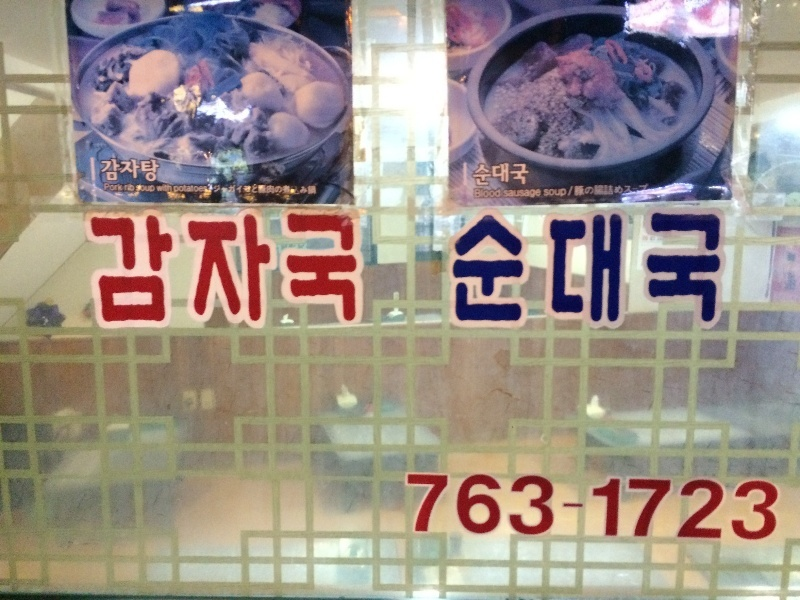text: (81, 203, 96, 336), (97, 203, 112, 336), (113, 203, 128, 336), (129, 203, 144, 336), (145, 203, 160, 336), (161, 203, 176, 336), (177, 203, 192, 336), (193, 203, 208, 336), (209, 203, 224, 336), (225, 203, 240, 336), (241, 203, 256, 336), (257, 203, 272, 336), (273, 203, 288, 336), (289, 203, 304, 336), (305, 203, 320, 336), (321, 203, 336, 336), (337, 203, 352, 336), (353, 203, 368, 336), (449, 207, 464, 339), (465, 207, 480, 339), (481, 207, 496, 339), (497, 207, 512, 339), (513, 207, 528, 339), (529, 207, 544, 339), (545, 207, 560, 339), (561, 207, 576, 339), (577, 207, 592, 339), (593, 207, 608, 339), (609, 207, 624, 339), (625, 207, 640, 339), (641, 207, 656, 339), (657, 207, 672, 339), (673, 207, 688, 339), (689, 207, 704, 339), (705, 207, 720, 339), (593, 470, 608, 554), (609, 470, 624, 554), (625, 470, 640, 554), (641, 470, 656, 554), (657, 470, 672, 554), (673, 470, 688, 554), (689, 470, 704, 554), (705, 470, 720, 554), (721, 470, 736, 554), (737, 470, 752, 554), (753, 470, 768, 554), (769, 470, 783, 554), (417, 467, 432, 545), (433, 467, 448, 545), (449, 467, 464, 545), (465, 467, 480, 545), (481, 467, 496, 545), (497, 467, 512, 545), (513, 467, 528, 545), (529, 467, 544, 545), (545, 467, 560, 545), (402, 467, 416, 545), (721, 207, 729, 339), (441, 207, 448, 339), (481, 158, 496, 190), (497, 158, 512, 190), (513, 158, 528, 190), (561, 493, 576, 524), (577, 493, 592, 524), (97, 156, 112, 183), (113, 156, 128, 183), (129, 156, 144, 183), (145, 156, 160, 183), (77, 203, 80, 336), (468, 158, 480, 190), (577, 182, 592, 199), (593, 182, 608, 199), (609, 182, 624, 199), (625, 182, 640, 199), (481, 187, 496, 201), (225, 184, 240, 196), (241, 184, 256, 196), (257, 184, 272, 196), (273, 184, 288, 196), (289, 184, 304, 196), (305, 184, 320, 196), (513, 187, 528, 199), (641, 182, 651, 199), (590, 470, 592, 554), (529, 187, 542, 199), (545, 188, 560, 198), (212, 184, 224, 196), (369, 203, 370, 336), (529, 158, 533, 190), (193, 185, 209, 193), (161, 184, 173, 194), (177, 185, 192, 193), (502, 187, 512, 199), (145, 184, 156, 194), (567, 185, 576, 197), (113, 183, 124, 192), (473, 187, 480, 201), (102, 183, 112, 192), (135, 184, 144, 194), (497, 187, 502, 201), (129, 183, 135, 194), (561, 188, 567, 198), (124, 183, 128, 194), (156, 184, 160, 194), (574, 182, 576, 199), (559, 493, 560, 524), (161, 156, 162, 183), (173, 185, 176, 193), (543, 188, 544, 198)
